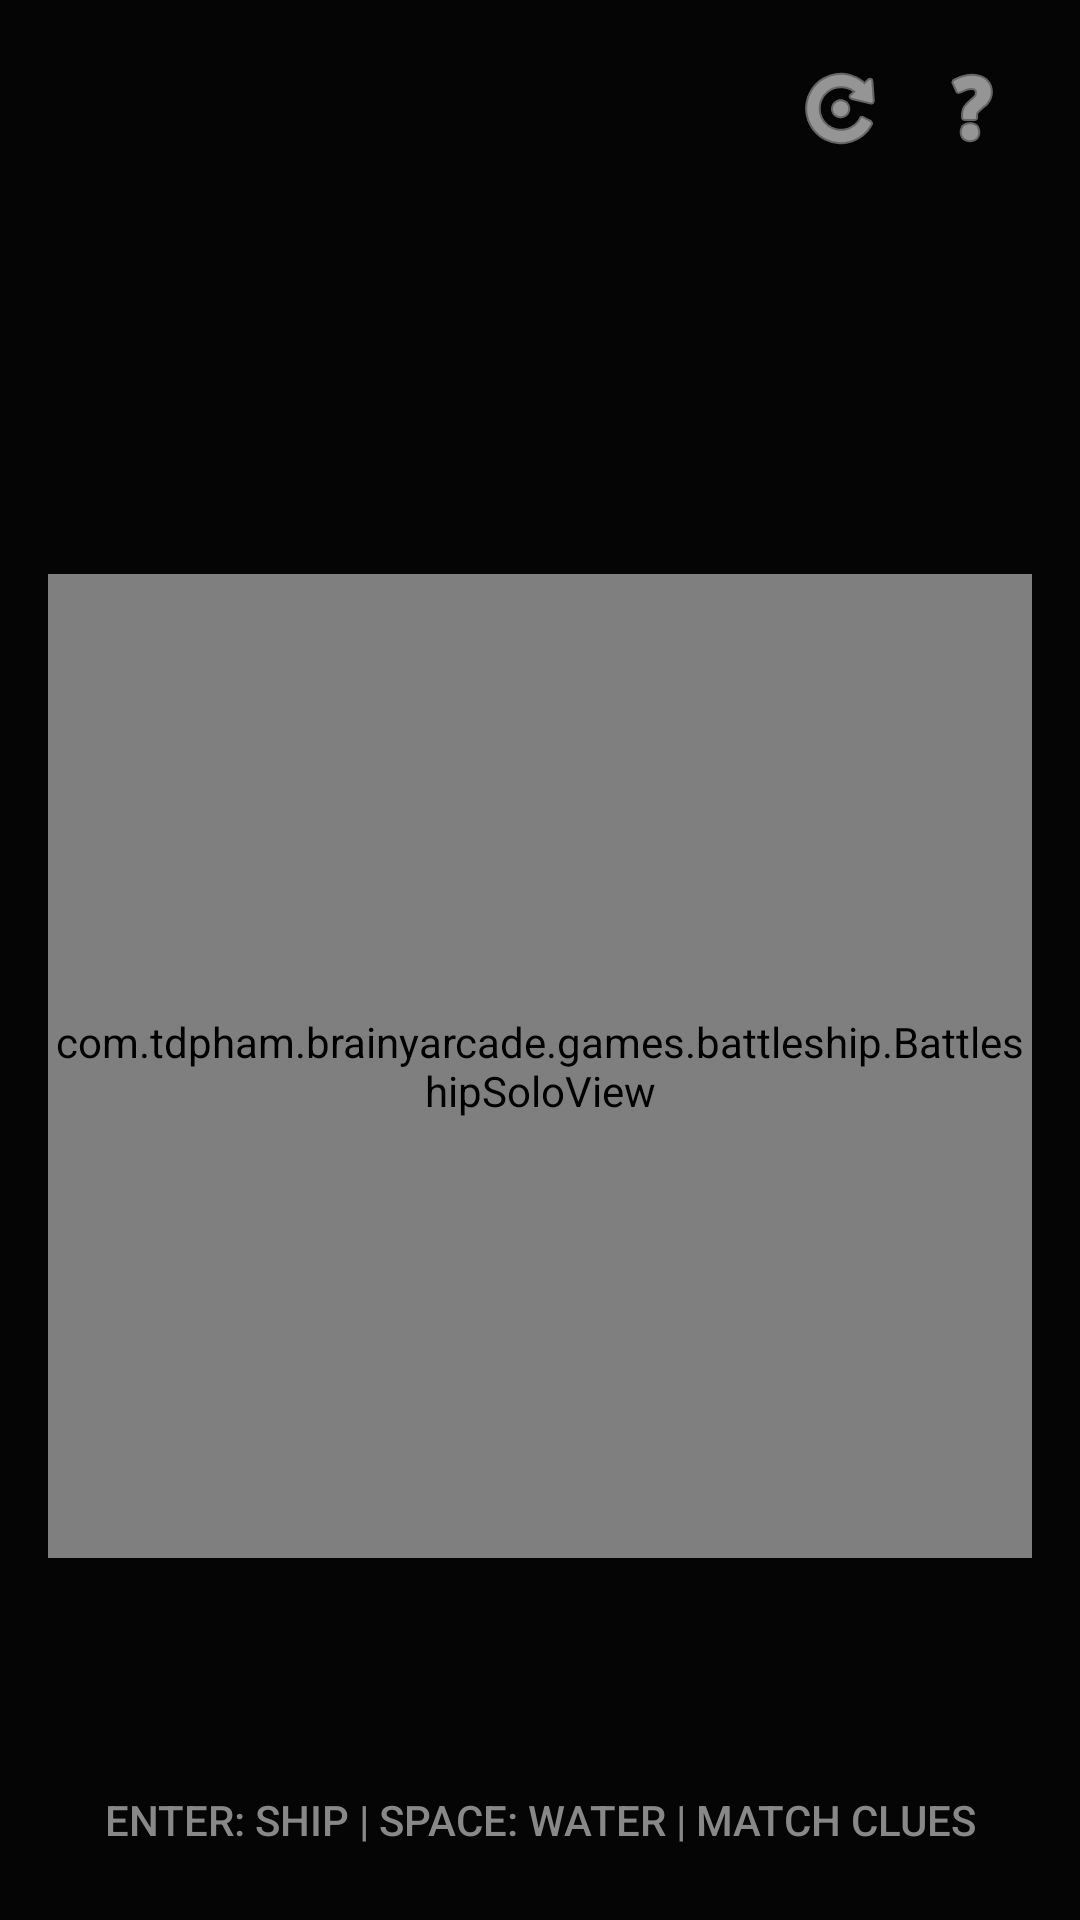

Point at icon controls on the screen. Image size 1080px x 1920px, points as point (x, y).
How to Play: point (972, 108)
New Game: point (840, 108)
